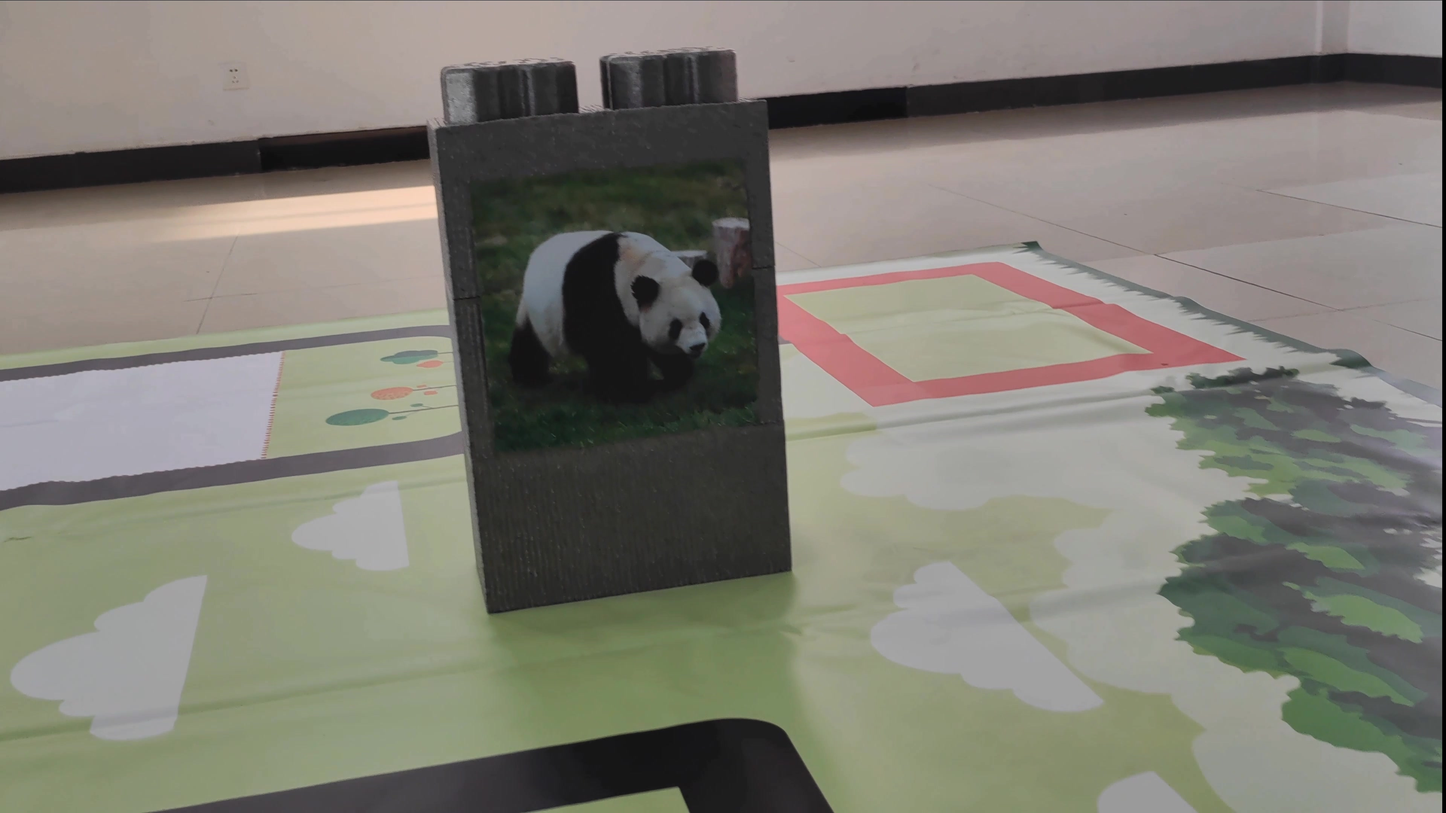panda: (496, 186, 744, 438)
